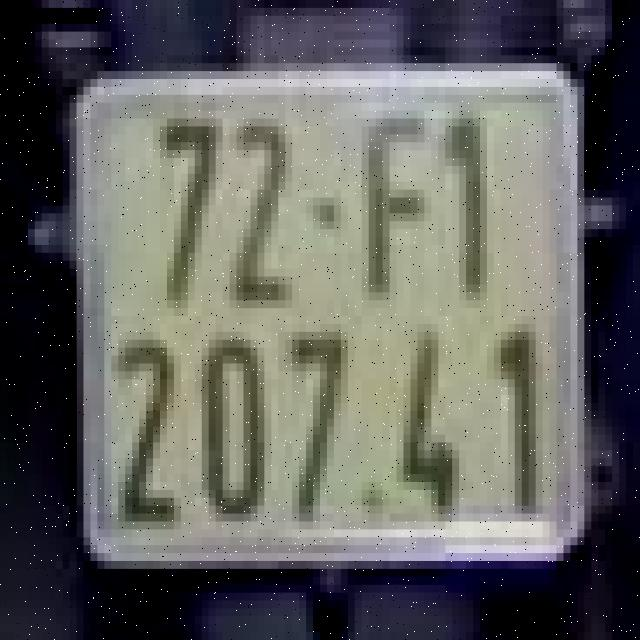0: (195, 320, 285, 549)
1: (442, 99, 504, 304), (491, 308, 546, 522)
2: (97, 332, 181, 529), (233, 111, 310, 308)
4: (397, 300, 473, 538)
7: (285, 328, 362, 549), (150, 103, 226, 316)
F: (358, 95, 435, 300)
